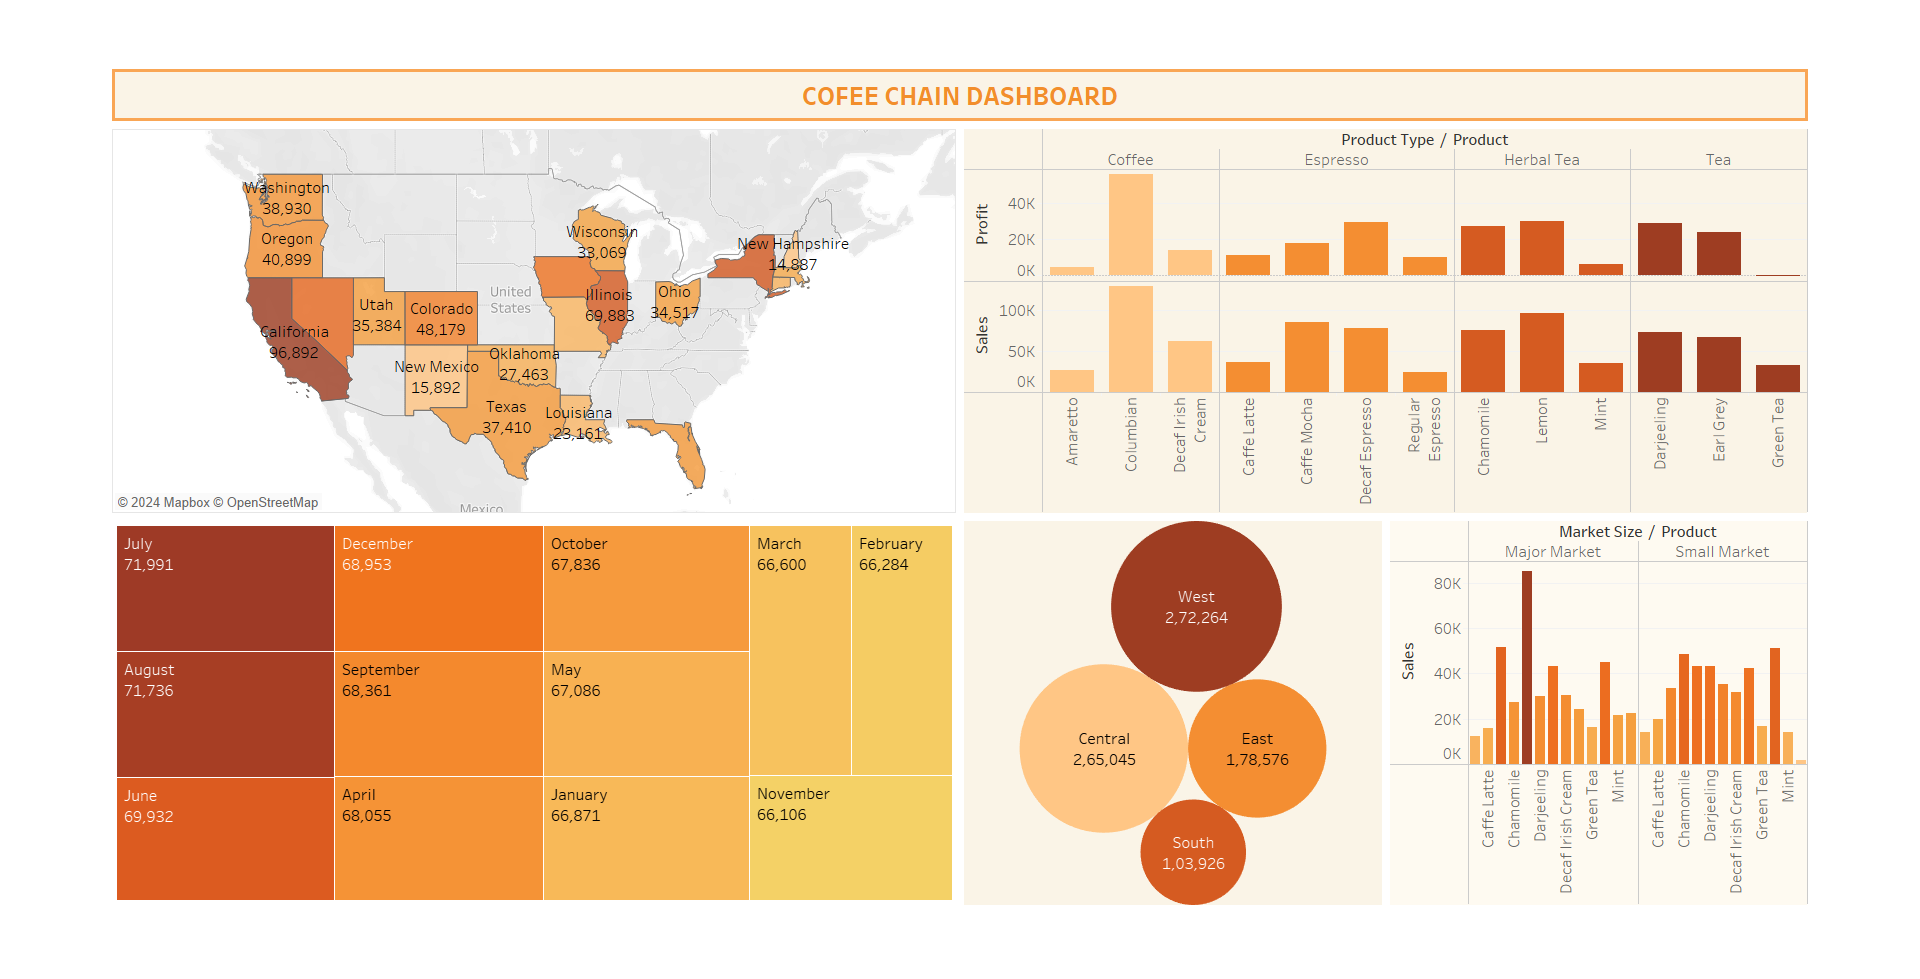

This screenshot's page, from the dashboard's own definition file:
{"tool":"tableau","page":{"name":"Dashboard 1","canvas":[1000,1000],"units":"permille","ordinal":0},"visuals":[{"type":"worksheet","title":"State Sales dist.","mark":"Automatic","box":[4.8,10,495.2,490]},{"type":"worksheet","title":"product dist.","mark":"Automatic","rows":["Profit","Sales"],"cols":["Product Type","Product"],"box":[500,10,495.2,490]},{"type":"worksheet","title":"seasonal fluc.","mark":"Automatic","box":[4.8,500,495.2,490]},{"type":"worksheet","title":"market sales dist.","mark":"Circle","box":[500,500,247.6,490]},{"type":"worksheet","title":"Sheet 6","mark":"Automatic","rows":["Sales"],"cols":["Market Size","Product"],"box":[747.6,500,247.6,490]}]}

Visuals, with their boxes on the dashboard's canvas, which has no fixed pixel size, in thousandths of its width and height (x1, y1, x2, y2). These are canvas units, not pixel positions in the 1920x979 screenshot, which may show the page scaled, cropped or inside an application window:
"State Sales dist." worksheet: [5, 10, 500, 500]
"product dist." worksheet: [500, 10, 995, 500]
"seasonal fluc." worksheet: [5, 500, 500, 990]
"market sales dist." worksheet (Circle marks): [500, 500, 748, 990]
"Sheet 6" worksheet: [748, 500, 995, 990]
